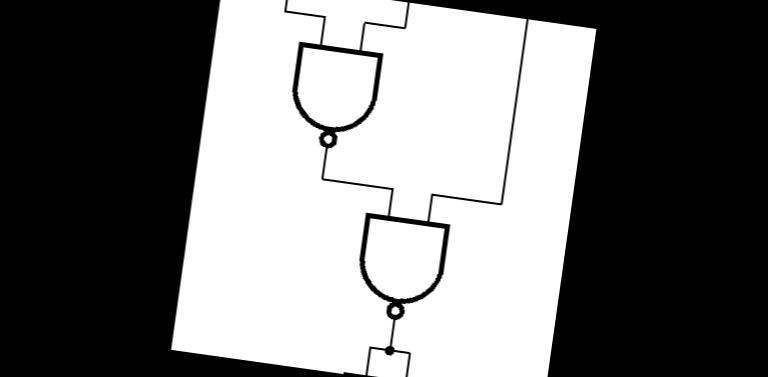nand: (341, 202, 458, 332), (276, 31, 392, 159)
